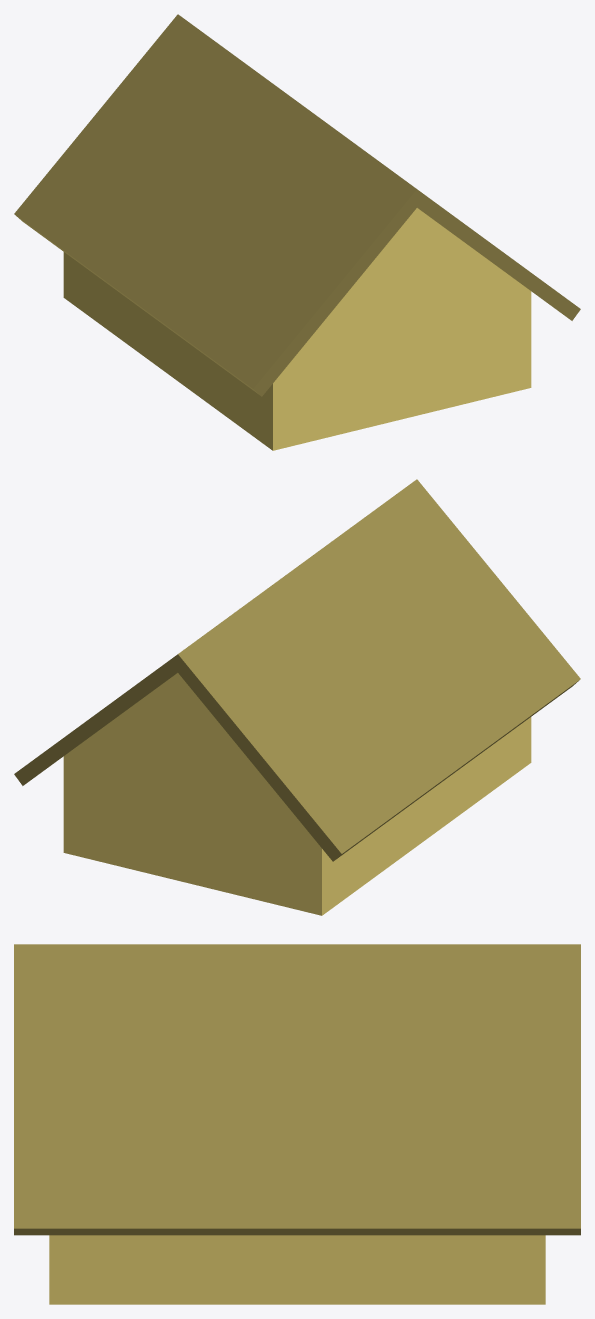
File: result.glb
3 views of the same model, one above another, from view 1: azimuth 30°, elevation 25°; view 2: azimuth 150°, elevation 25°; view 3: azimuth 270°, elevation 25° (orthographic). The views are drawn at different scales.
Parts seen in each view (by area): view 1: a553cd62-0245-4450-8cb2-d70cc18f403b__undefined (×2), 72aeadb1-5699-4fe1-8691-4f45459969c9__undefined; view 2: a553cd62-0245-4450-8cb2-d70cc18f403b__undefined (×2), 72aeadb1-5699-4fe1-8691-4f45459969c9__undefined; view 3: a553cd62-0245-4450-8cb2-d70cc18f403b__undefined, 72aeadb1-5699-4fe1-8691-4f45459969c9__undefined.
Boxes of the visible parts, left/top/right/bottom form: a553cd62-0245-4450-8cb2-d70cc18f403b__undefined (×2): left=14, top=14, right=580, bottom=396; 72aeadb1-5699-4fe1-8691-4f45459969c9__undefined: left=63, top=208, right=531, bottom=450; a553cd62-0245-4450-8cb2-d70cc18f403b__undefined (×2): left=14, top=479, right=580, bottom=861; 72aeadb1-5699-4fe1-8691-4f45459969c9__undefined: left=63, top=673, right=531, bottom=915; a553cd62-0245-4450-8cb2-d70cc18f403b__undefined: left=14, top=944, right=580, bottom=1235; 72aeadb1-5699-4fe1-8691-4f45459969c9__undefined: left=49, top=1235, right=545, bottom=1304.
Size of the model in its own units: 633 by 445 by 800.
